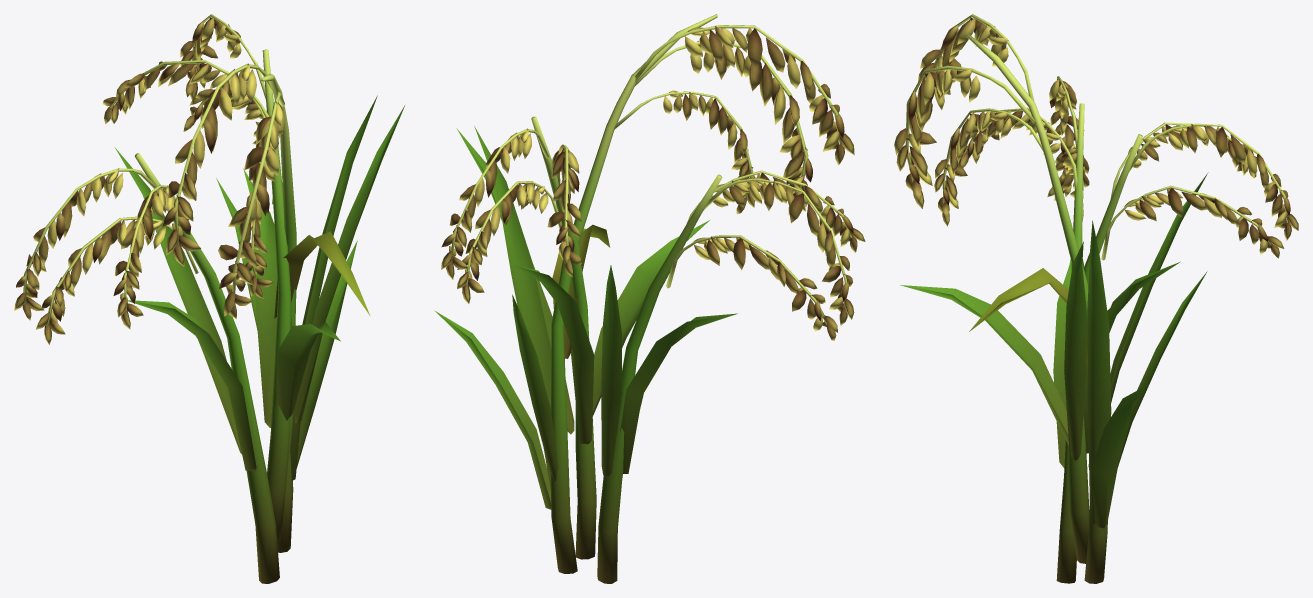
The model's file is SM_RiceCrop_03.fbx.
3 renders of one model, left to right at view 1: azimuth 30°, elevation 25°; view 2: azimuth 150°, elevation 25°; view 3: azimuth 270°, elevation 25°, orthographic. The views are drawn at different scales.
Parts seen in each view (by area): view 1: SM_RiceCrop_03; view 2: SM_RiceCrop_03; view 3: SM_RiceCrop_03.
Part boxes in pixels (box(x1,y1,x2,y2)): SM_RiceCrop_03: box(14, 14, 404, 583); SM_RiceCrop_03: box(434, 14, 865, 583); SM_RiceCrop_03: box(894, 14, 1298, 583).
Bounding box in the file's own units: 2.88 × 3.86 × 2.7.
